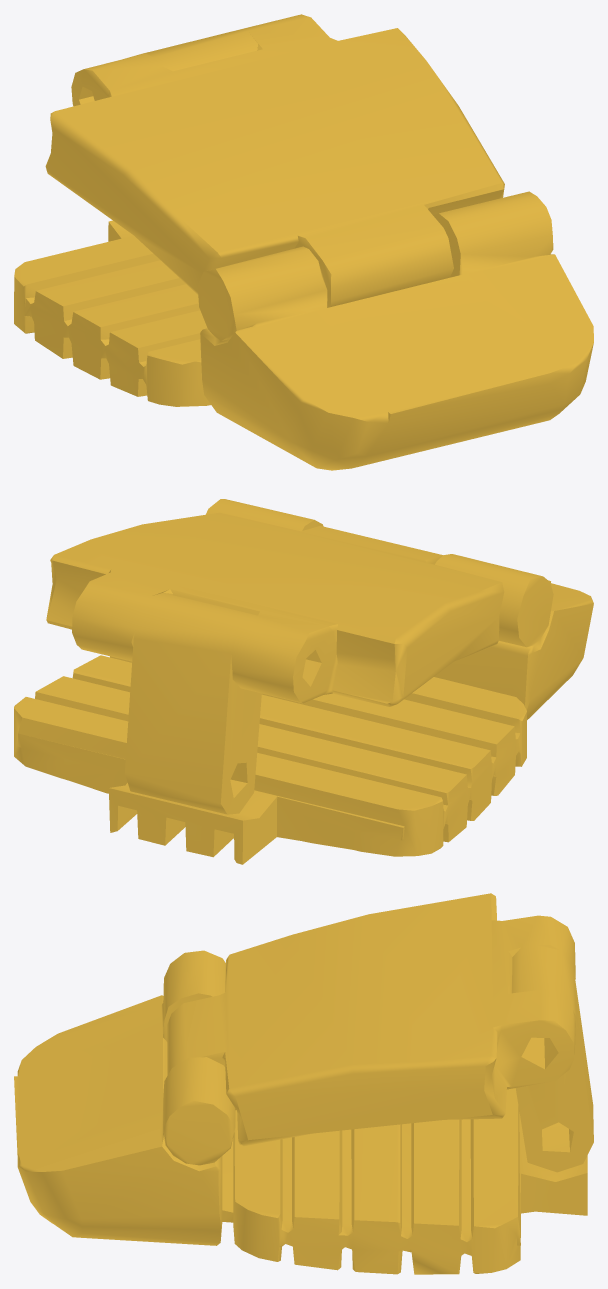
File: link_finger_tip_simplified.3obj.obj.glb
The picture shows the model from 3 angles, top to bottom: view 1: azimuth 30°, elevation 25°; view 2: azimuth 150°, elevation 25°; view 3: azimuth 270°, elevation 25°; orthographic projection. The views are drawn at different scales.
Parts seen in each view (by area): view 1: link_finger_tip_simplified.3obj.obj; view 2: link_finger_tip_simplified.3obj.obj; view 3: link_finger_tip_simplified.3obj.obj.
Boxes of the visible parts, box(x1,y1,x2,y2) form: link_finger_tip_simplified.3obj.obj: box(14, 14, 593, 470); link_finger_tip_simplified.3obj.obj: box(14, 499, 593, 864); link_finger_tip_simplified.3obj.obj: box(14, 893, 593, 1274).
Size of the model in its own units: 0.039 by 0.0206 by 0.0481.
Materials: 1 (1 with a texture image).
